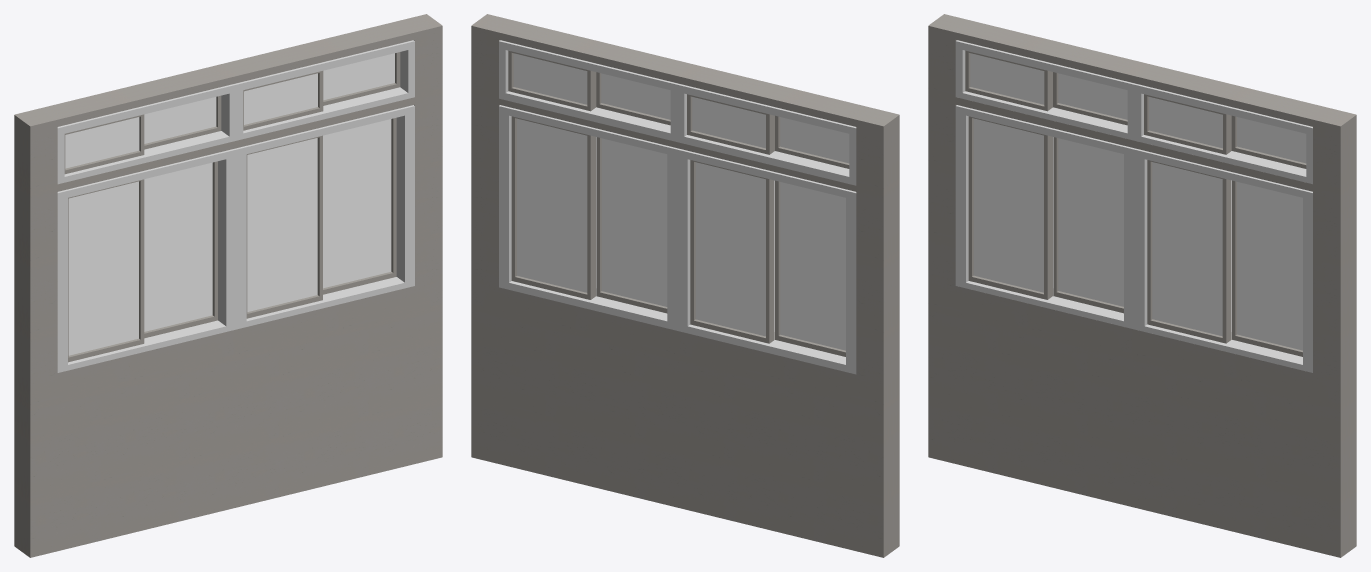
Rendered from glass.glb.
3 renders of one model, left to right at view 1: azimuth 30°, elevation 25°; view 2: azimuth 150°, elevation 25°; view 3: azimuth 330°, elevation 25°, orthographic.
Parts seen in each view (by area): view 1: small_window_long_window_wall, long_window_boundary, long_window1, long_window1.001, long_window2, long_window2.001, small_window_type2_boundary, small_window_type2_1, small_window_type2_1.001, small_window_type2_2.001, small_window_type2_2; view 2: small_window_long_window_wall, long_window_boundary, long_window2.001, long_window2, long_window1.001, long_window1, small_window_type2_boundary, small_window_type2_2.001, small_window_type2_2, small_window_type2_1, small_window_type2_1.001; view 3: small_window_long_window_wall, long_window_boundary, long_window1, long_window1.001, long_window2.001, long_window2, small_window_type2_boundary, small_window_type2_1, small_window_type2_1.001, small_window_type2_2.001, small_window_type2_2.
Boxes of the visible parts, x1,y1,x2,y2 form: small_window_long_window_wall: (14,14,442,557); long_window_boundary: (57,105,414,372); long_window1: (68,179,144,362); long_window1.001: (246,135,322,318); long_window2: (144,161,217,338); long_window2.001: (323,117,396,294); small_window_type2_boundary: (57,40,414,184); small_window_type2_1: (64,114,144,174); small_window_type2_1.001: (243,71,323,130); small_window_type2_2.001: (323,52,400,105); small_window_type2_2: (144,95,221,149); small_window_long_window_wall: (471,14,899,557); long_window_boundary: (499,105,856,374); long_window2.001: (511,116,595,299); long_window2: (690,160,774,343); long_window1.001: (596,137,667,313); long_window1: (775,180,845,356); small_window_type2_boundary: (499,40,856,185); small_window_type2_2.001: (508,50,596,111); small_window_type2_2: (687,94,774,154); small_window_type2_1: (775,115,849,168); small_window_type2_1.001: (596,72,670,125); small_window_long_window_wall: (928,14,1356,557); long_window_boundary: (955,105,1312,372); long_window1: (968,116,1052,299); long_window1.001: (1147,160,1231,343); long_window2.001: (1232,180,1302,356); long_window2: (1053,137,1123,313); small_window_type2_boundary: (955,40,1312,184); small_window_type2_1: (965,50,1052,111); small_window_type2_1.001: (1144,94,1231,154); small_window_type2_2.001: (1231,115,1306,168); small_window_type2_2: (1053,72,1127,125).
Bounding box in the file's own units: 6 × 6 × 0.4052.
Materials: 4 (3 with a texture image).
